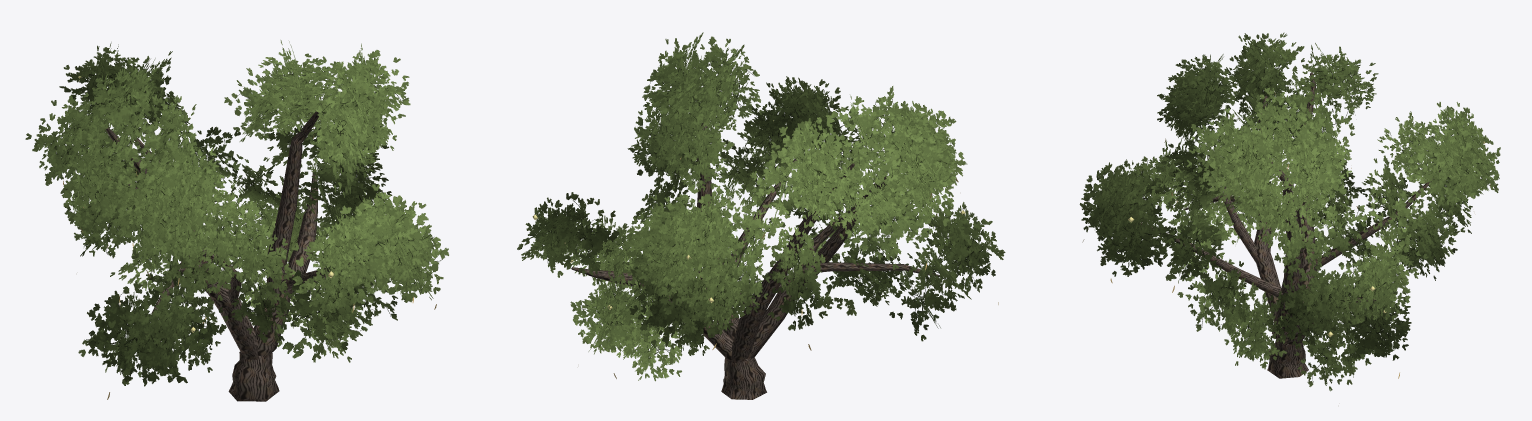
File: old-b.lod1.glb
3 renders of one model, left to right at view 1: azimuth 30°, elevation 25°; view 2: azimuth 150°, elevation 25°; view 3: azimuth 270°, elevation 25°, orthographic. The views are drawn at different scales.
Visible parts, largest first — view 1: foliage, bark; view 2: foliage, bark; view 3: foliage, bark.
Part boxes in pixels (x1,y1,x2,y2): foliage: (25, 40, 448, 386); bark: (105, 104, 361, 401); foliage: (517, 32, 1005, 381); bark: (571, 120, 939, 399); foliage: (1079, 32, 1500, 391); bark: (1141, 72, 1439, 378).
Bounding box in the file's own units: 11.9 × 9.5 × 12.87.
4 materials, 3 textured.
